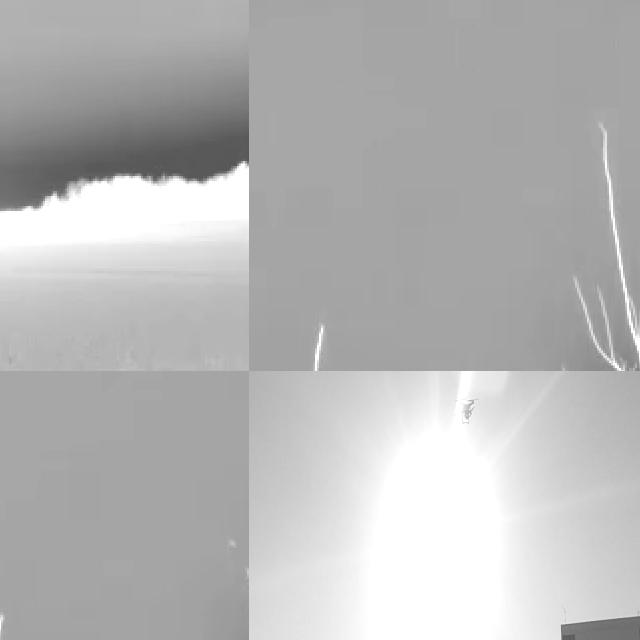0: (222, 530, 244, 558)
drone: (454, 393, 482, 426)
